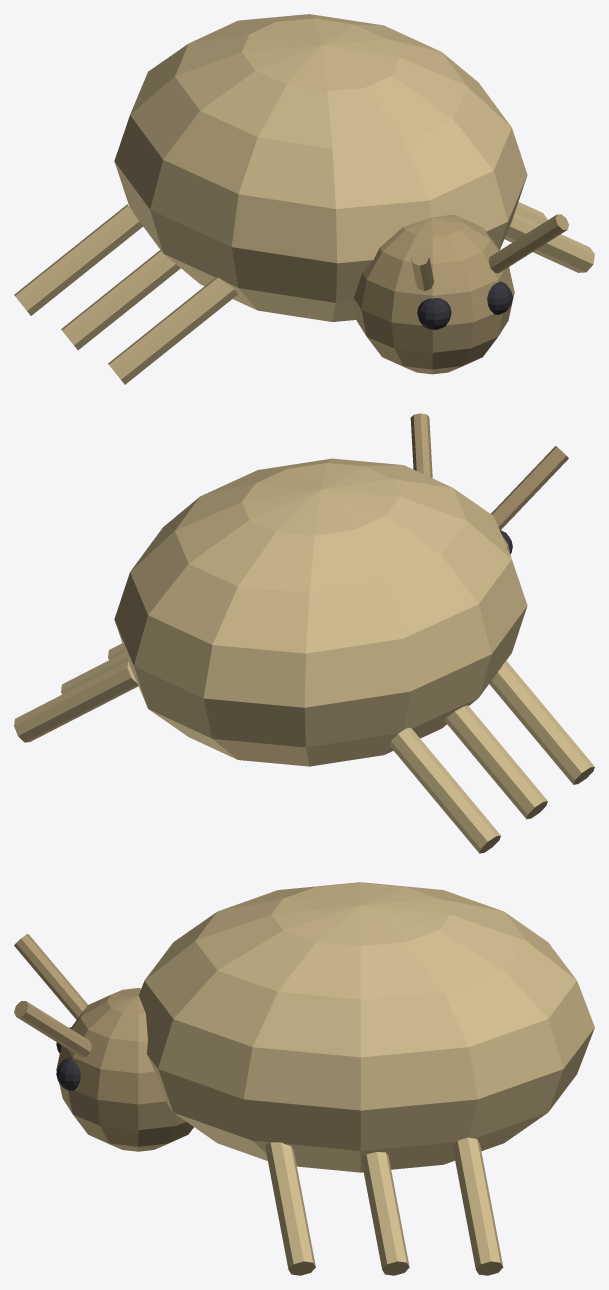
File: creature_beetle_sand.glb
The picture shows the model from 3 angles, top to bottom: view 1: azimuth 30°, elevation 25°; view 2: azimuth 150°, elevation 25°; view 3: azimuth 270°, elevation 25°; orthographic projection.
Visible parts, largest first — view 1: creature_beetle_sand; view 2: creature_beetle_sand; view 3: creature_beetle_sand.
Part boxes in pixels (x1,y1,x2,y2): creature_beetle_sand: (14,14,594,384); creature_beetle_sand: (14,413,594,853); creature_beetle_sand: (14,882,594,1275).
Size of the model in its own units: 1.93 by 1 by 2.02.
